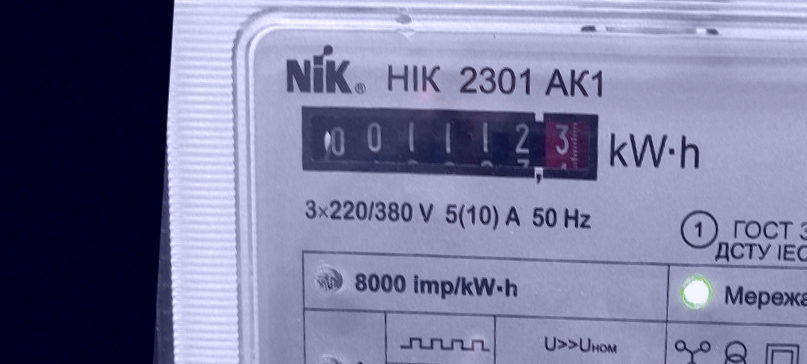0: (360, 116, 384, 156), (324, 121, 348, 157)
1: (399, 116, 419, 155), (475, 117, 492, 155), (437, 117, 453, 156)
2: (508, 119, 532, 156)
3: (549, 120, 569, 156)
screen: (289, 92, 606, 192)
